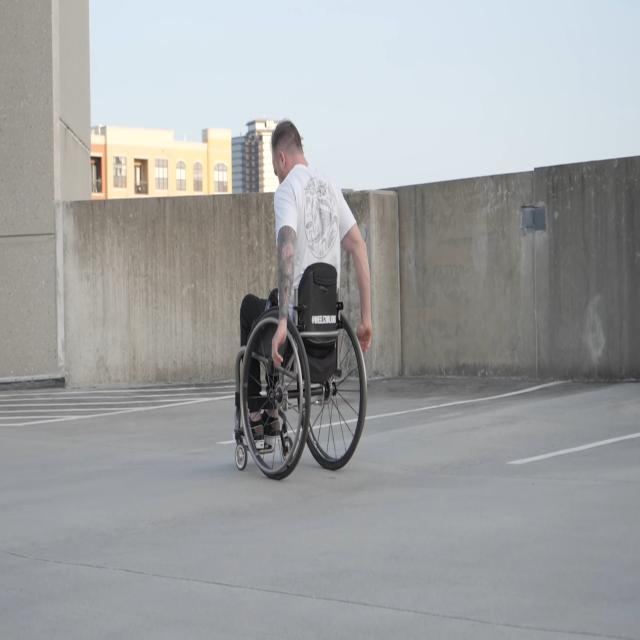wheelchairs: (233, 259, 369, 482)
